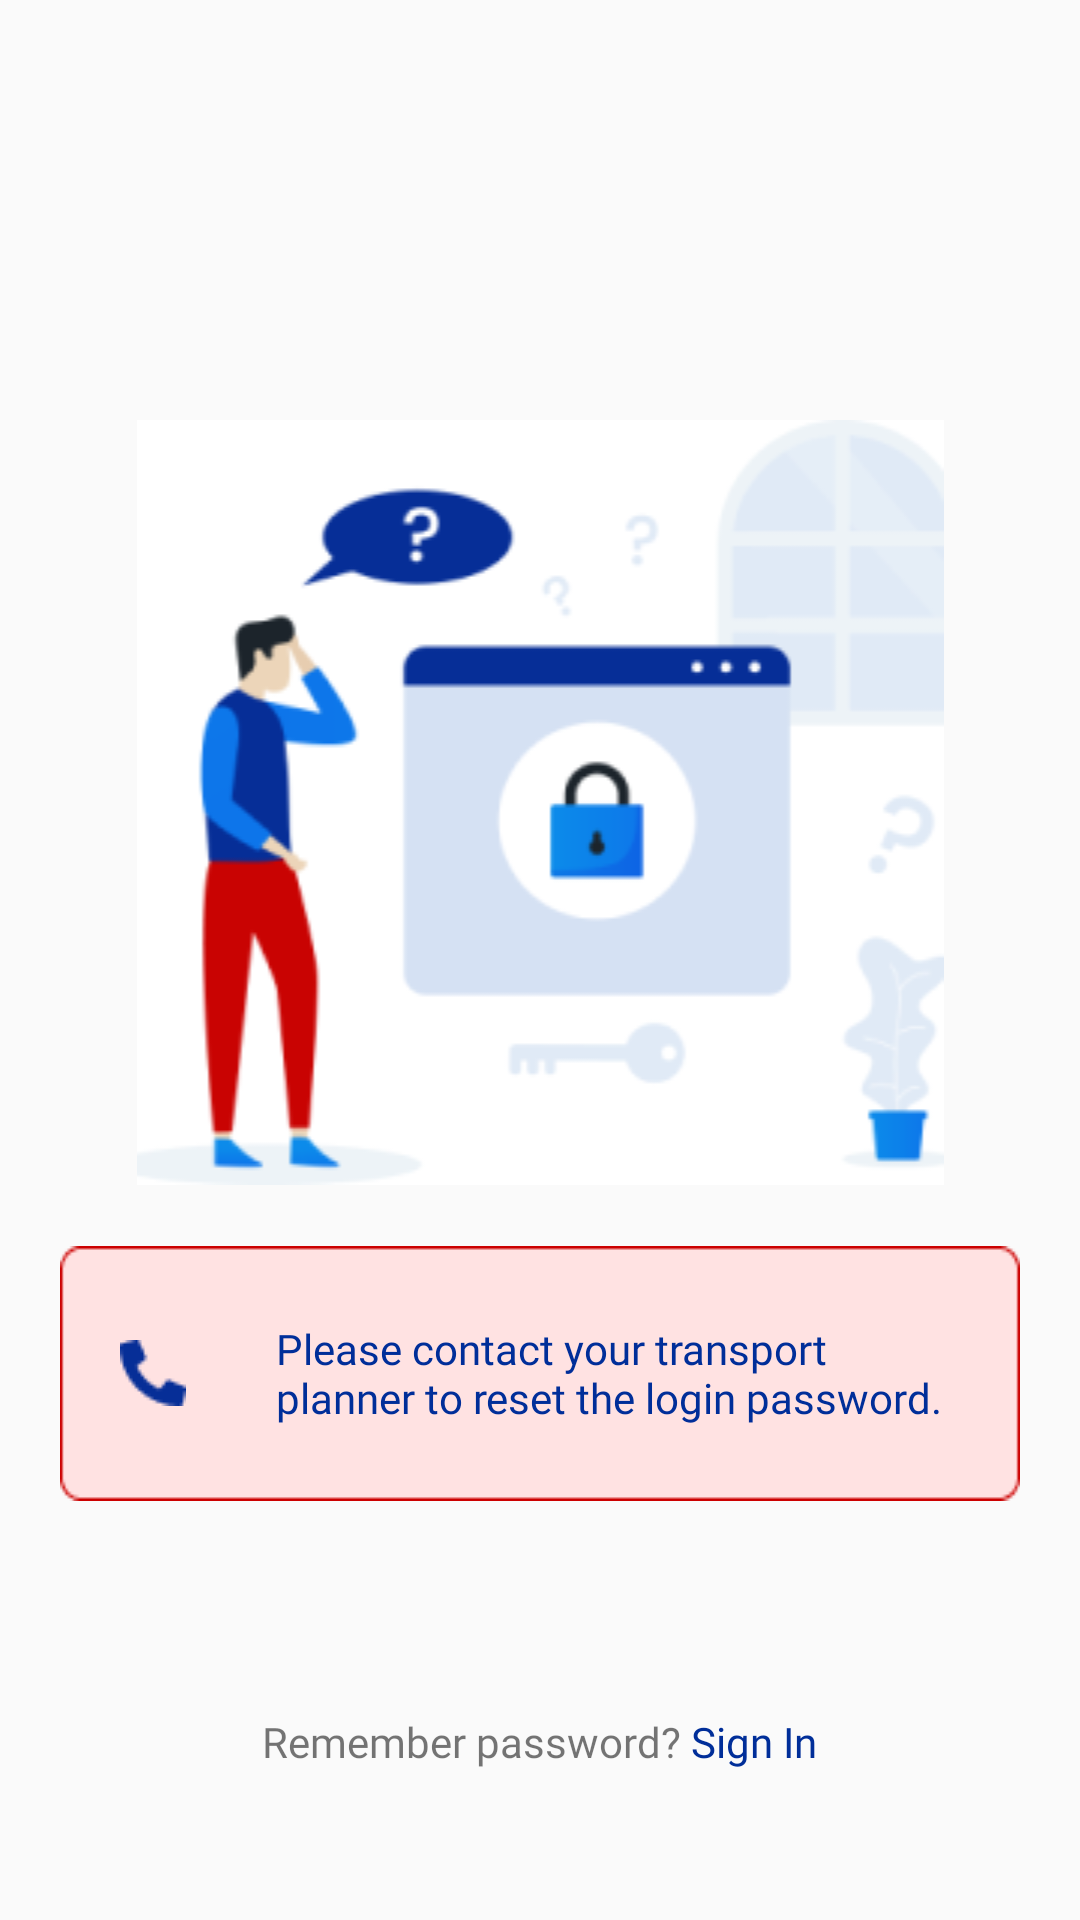

Where icons sit on this 1080×1920 app screen, as (x1, y1, x2, y2):
phone: (120, 1340, 186, 1406)
